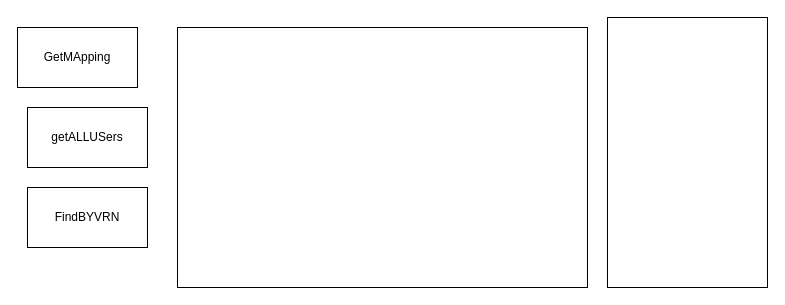
Image size: 785x305. Some labels were removed from this diagram. The centre of each missing label's shape, as x and y in pixels:
"LIVe Pramametrs" belongs at pixel 687 152.
"LOCAL MAP" belongs at pixel 382 157.
